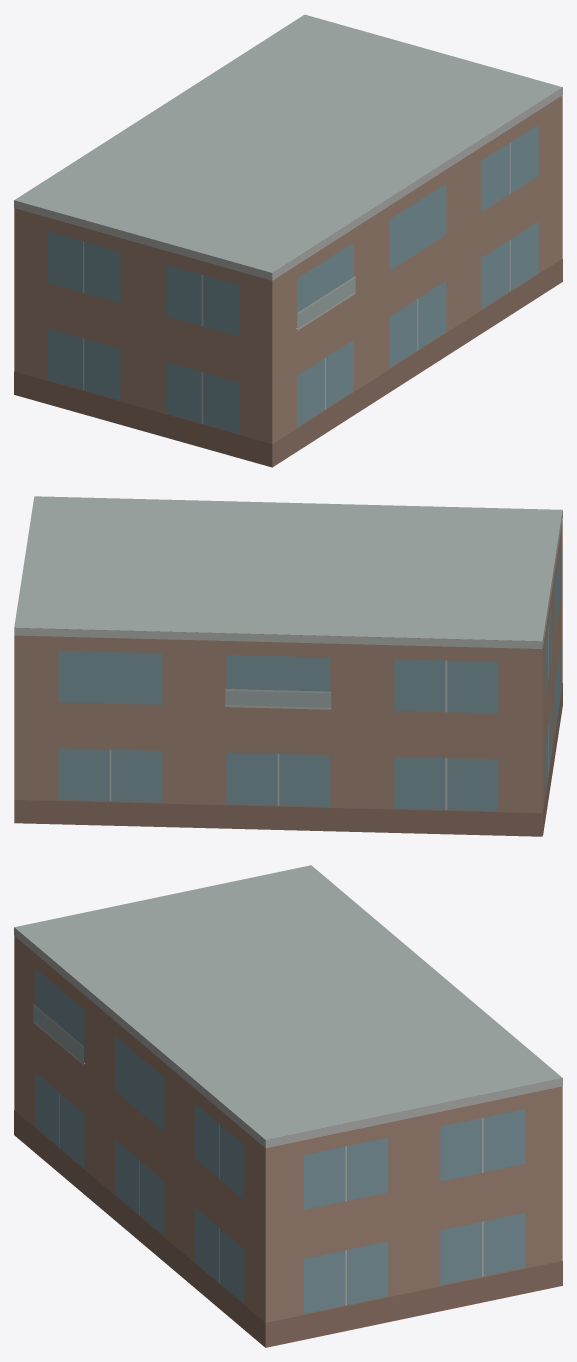
Rendered from survey-upis-32702131.glb.
The picture shows the model from 3 angles, top to bottom: view 1: azimuth 30°, elevation 25°; view 2: azimuth 150°, elevation 25°; view 3: azimuth 270°, elevation 25°; orthographic projection. The views are drawn at different scales.
Parts seen in each view (by area): view 1: survey-upis-32702131.tmp; view 2: survey-upis-32702131.tmp; view 3: survey-upis-32702131.tmp.
Part boxes in pixels (x1=…): survey-upis-32702131.tmp: x1=14, y1=14, x2=562, y2=467; survey-upis-32702131.tmp: x1=14, y1=496, x2=562, y2=836; survey-upis-32702131.tmp: x1=14, y1=865, x2=562, y2=1347.
Bounding box in the file's own units: 17.32 × 6.1 × 14.61.
